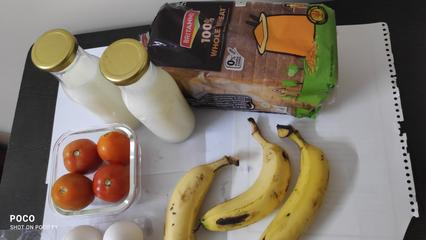banana: (230, 136, 339, 240), (178, 139, 212, 240)
bread: (146, 4, 348, 108)
milk: (29, 27, 198, 135)
tomato: (38, 127, 135, 204)
